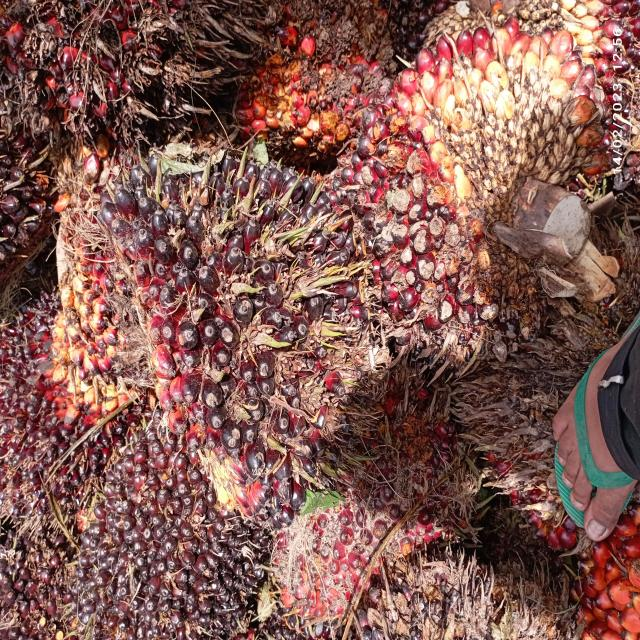fraksi 00: (42, 125, 374, 511)
fraksi 1: (337, 25, 607, 375), (77, 431, 255, 624)
fraksi 4: (249, 2, 395, 169)
